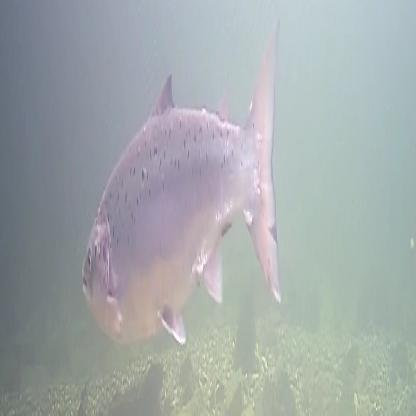salmon: (80, 8, 283, 351)
